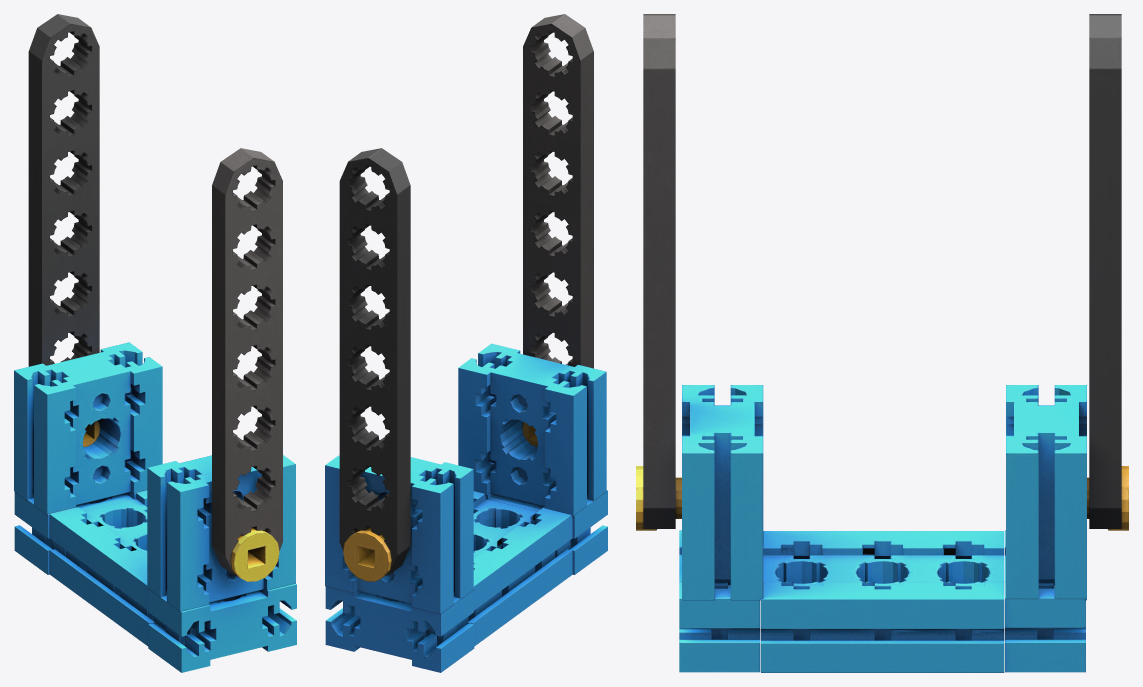
The picture shows the model from 3 angles, left to right: view 1: azimuth 30°, elevation 25°; view 2: azimuth 150°, elevation 25°; view 3: azimuth 270°, elevation 25°; orthographic projection. The views are drawn at different scales.
Visible parts, largest first — view 1: 1.1_swing-p3; view 2: 1.1_swing-p3; view 3: 1.1_swing-p3.
Part boxes in pixels (x1,y1,x2,y2): 1.1_swing-p3: (14, 14, 296, 672); 1.1_swing-p3: (325, 14, 607, 672); 1.1_swing-p3: (636, 14, 1128, 672).
Size of the model in its own units: 0.0203 by 0.0848 by 0.0608.
Materials: 1 (1 with a texture image).
